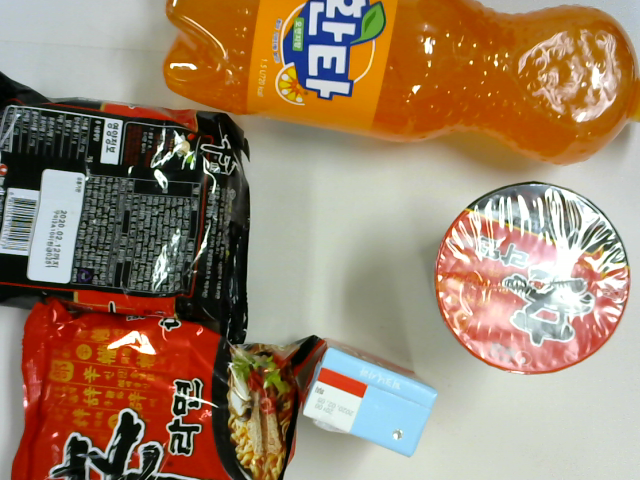Hwanta_Orange_1.5L: (170, 1, 625, 125)
Picnic_Apple: (291, 336, 437, 463)
Sinramen: (24, 320, 298, 480)
Sinramen_Black: (1, 106, 254, 336)
Sinramen_small: (422, 194, 626, 374)
